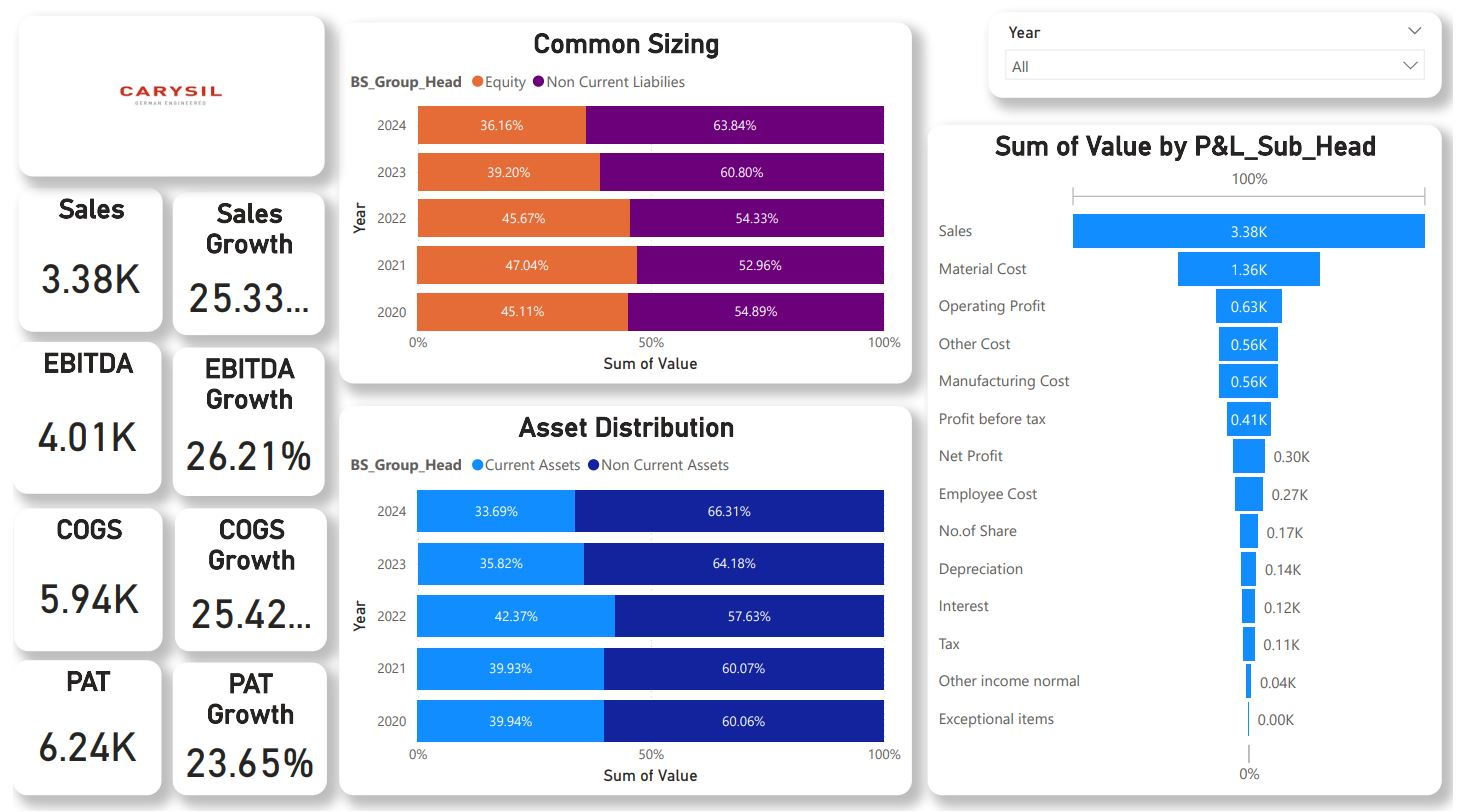

What the dashboard file says about the page in this screenshot:
{"tool":"powerbi","page":{"name":"summary","canvas":[1280,720],"ordinal":0},"visuals":[{"type":"card","title":"Sales","fields":{"Values":["Sum(P&L Fact.Value)"]},"box":[4.8,166.5,127.9,127.9],"z":0},{"type":"card","title":"EBITDA","fields":{"Values":["Sum(P&L Fact.Value)"]},"box":[0,302.8,131.5,135.1],"z":1000},{"type":"card","title":"COGS","fields":{"Values":["Sum(P&L Fact.Value)"]},"box":[1.2,451.2,131.5,126.7],"z":2000},{"type":"card","title":"PAT","fields":{"Values":["Sum(P&L Fact.Value)"]},"box":[0,586.3,131.5,119.4],"z":3000},{"type":"card","title":"Sales Growth","fields":{"Values":["P&L Fact.% change"]},"box":[142.4,170.1,135.1,126.7],"z":4000},{"type":"card","title":"EBITDA Growth","fields":{"Values":["P&L Fact.% change"]},"box":[142.4,307.6,135.1,132.7],"z":5000},{"type":"card","title":"COGS Growth","fields":{"Values":["P&L Fact.% change"]},"box":[143.6,451.2,135.1,126.7],"z":6000},{"type":"card","title":"PAT Growth","fields":{"Values":["P&L Fact.% change"]},"box":[142.4,587.5,136.3,118.2],"z":7000},{"type":"hundredPercentStackedBarChart","title":"Asset Distribution","fields":{"Category":["Date Dim.Date.Variation.Date Hierarchy.Year"],"Y":["Sum(BS Fact.Value)"],"Series":["BS Dim.BS_Group_Head"]},"box":[289.5,359.5,509.1,346.2],"z":8000},{"type":"hundredPercentStackedBarChart","title":"Common Sizing","fields":{"Category":["Date Dim.Date.Variation.Date Hierarchy.Year"],"Y":["Sum(BS Fact.Value)"],"Series":["BS Dim.BS_Group_Head"]},"box":[289.5,19.3,509.1,320.9],"z":9000},{"type":"slicer","fields":{"Values":["Date Dim.Year"]},"box":[867.4,9.7,403,76],"z":10000},{"type":"funnel","fields":{"Category":["P&L Dim.P&L_Sub_Head"],"Y":["Sum(P&L Fact.Value)"]},"box":[813.1,109.8,457.2,596],"z":11000},{"type":"image","box":[4.8,13.3,272.7,142.4],"z":12000}]}

Visuals, with their boxes in screenshot pixels (x1, y1, x2, y2), scaled from the page's 1280x720 canvas onto the 1459x812 screenshot:
"Sales" card: rect(5, 188, 151, 332)
"EBITDA" card: rect(0, 341, 150, 494)
"COGS" card: rect(1, 509, 151, 652)
"PAT" card: rect(0, 661, 150, 796)
"Sales Growth" card: rect(162, 192, 316, 335)
"EBITDA Growth" card: rect(162, 347, 316, 497)
"COGS Growth" card: rect(164, 509, 318, 652)
"PAT Growth" card: rect(162, 663, 318, 796)
"Asset Distribution" hundredPercentStackedBarChart: rect(330, 405, 910, 796)
"Common Sizing" hundredPercentStackedBarChart: rect(330, 22, 910, 384)
slicer - Date Dim.Year: rect(989, 11, 1448, 97)
funnel - P&L Dim.P&L_Sub_Head x Sum(P&L Fact.Value): rect(927, 124, 1448, 796)
image: rect(5, 15, 316, 176)
